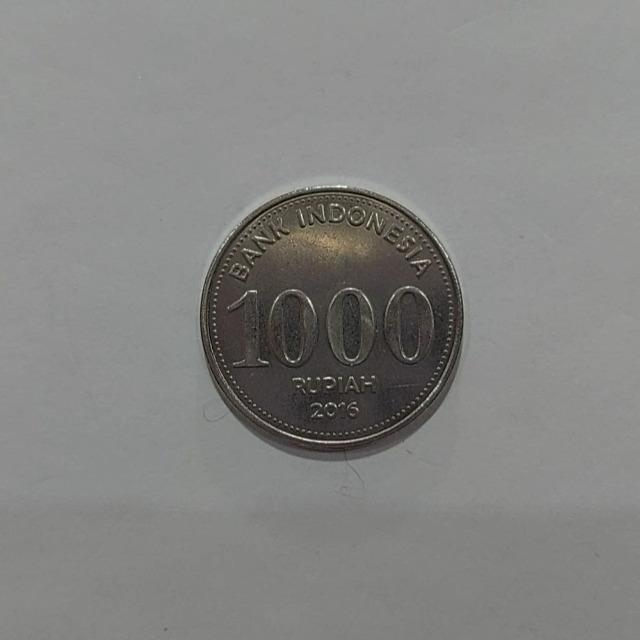Rp100: (197, 183, 465, 460)
